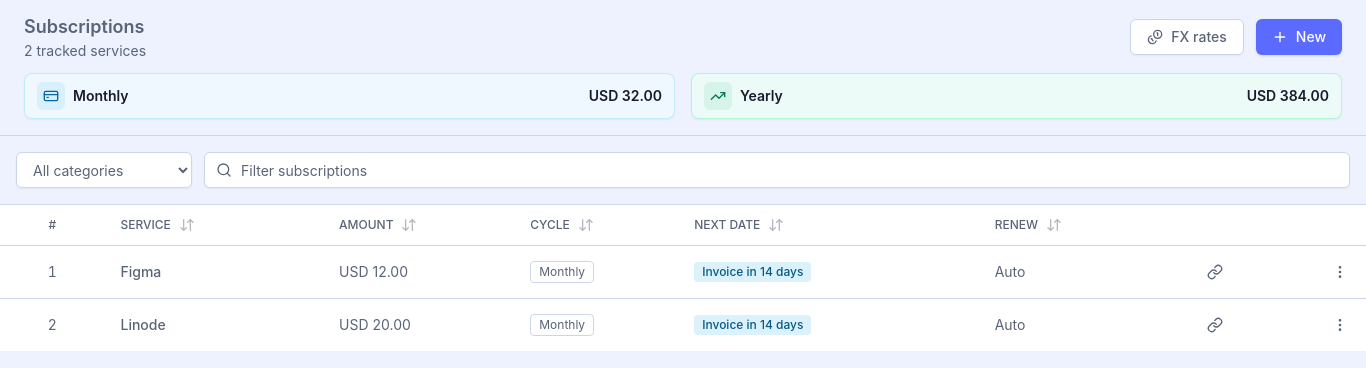
SubscriptionsListView › renders rows, filters by metadata, and shows summary totals
expect the heading "Subscriptions" is shown: met, box 24,16 -> 144,37
expect the button "FX rates" is shown: met, box 1130,19 -> 1244,55
Type "design" into the field labelled "Filter subscriptions" at (777, 170), box 204,152 -> 1350,188
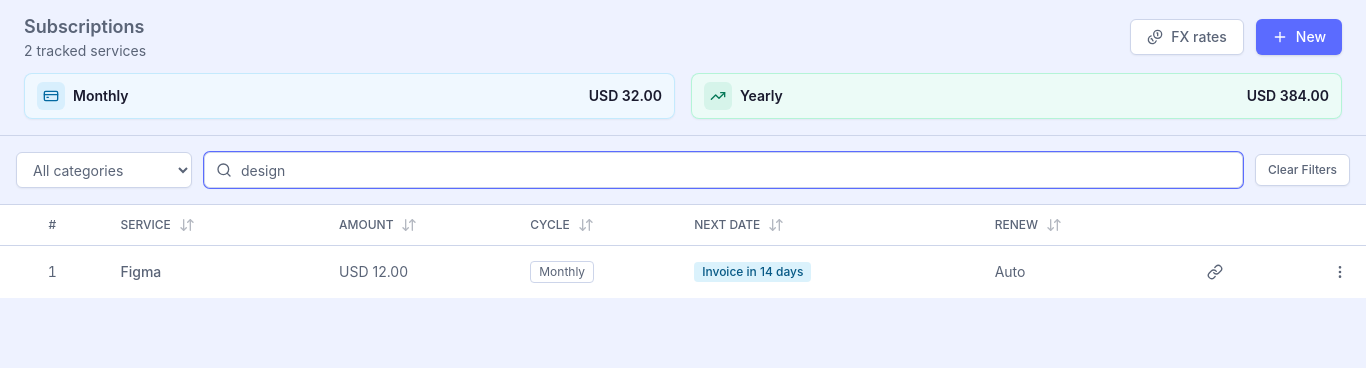
expect the button "Figma" is shown: met, box 120,262 -> 161,282
expect the button "Linode" is gone: met
Click the button "Clear Filters" at (1302, 170), box 1255,154 -> 1350,186
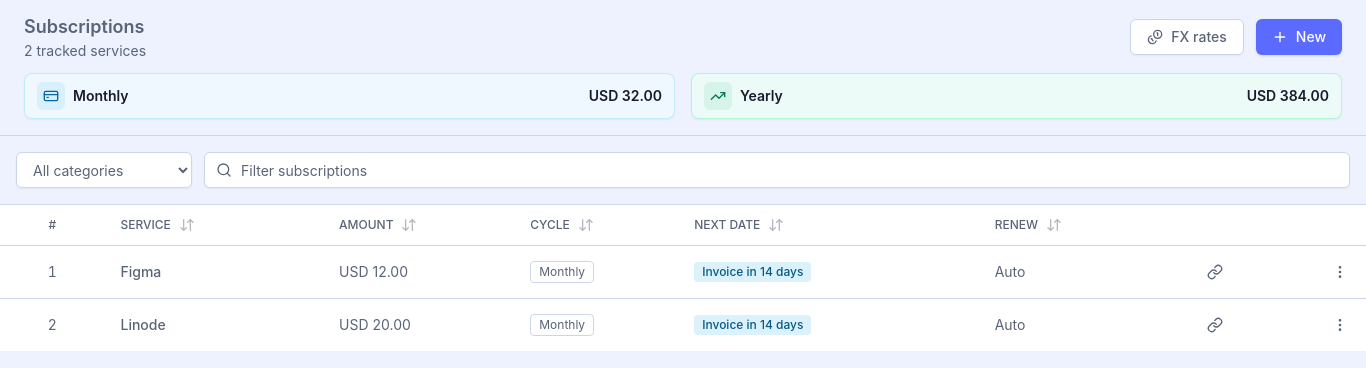
expect the field labelled "Filter subscriptions" is empty: met, box 204,152 -> 1350,188
expect the button "Linode" is shown: met, box 120,314 -> 166,334
